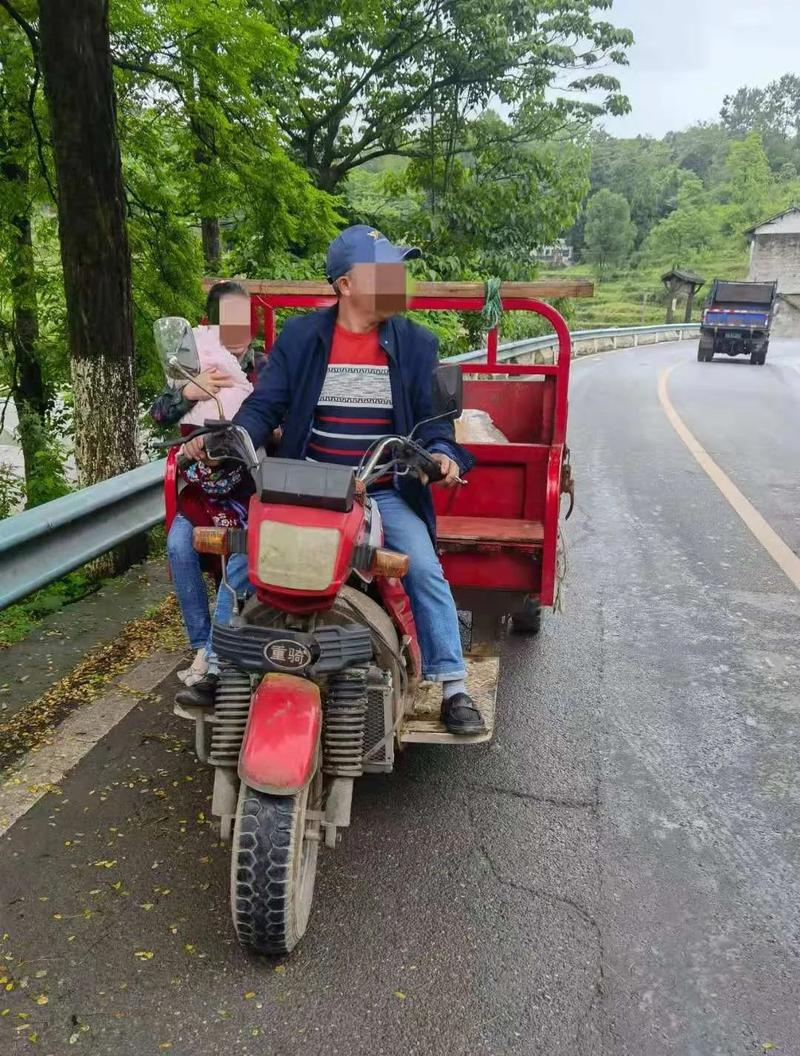driver: (282, 233, 465, 781)
overloading: (144, 145, 583, 978)
passenger: (170, 273, 257, 646)
